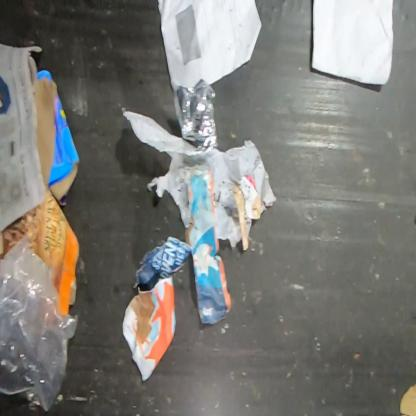cardboard: (0, 182, 80, 316), (32, 68, 82, 207), (399, 381, 415, 415)
metal: (174, 78, 218, 151)
soft_plastic: (121, 107, 278, 251), (0, 231, 80, 414)
